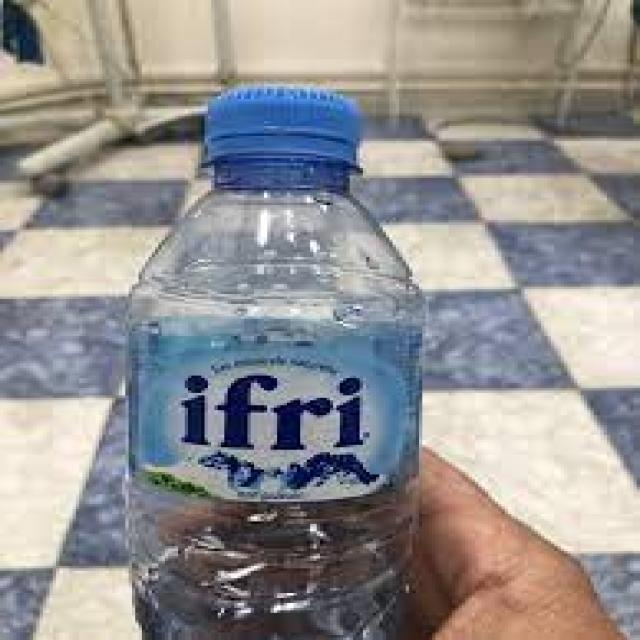Flask: (109, 69, 412, 640)
